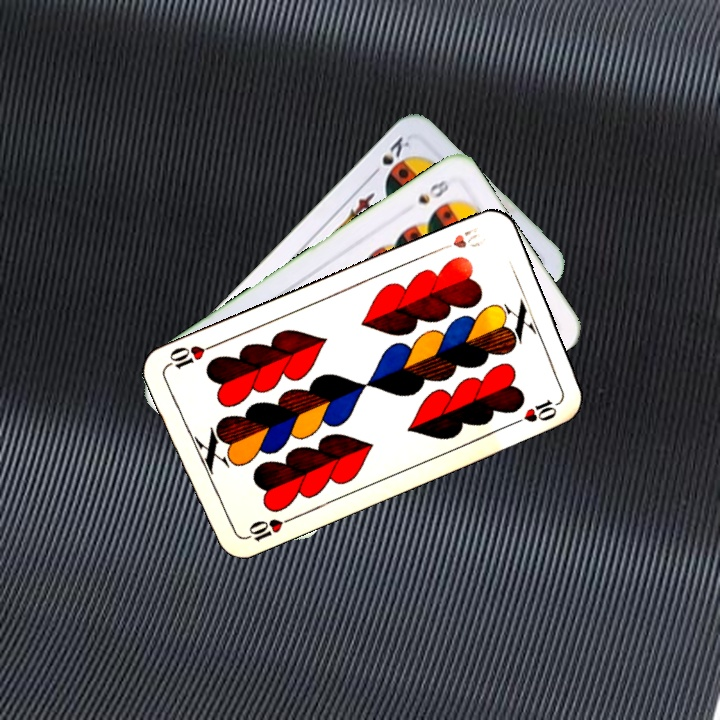H10: (239, 513, 295, 545), (432, 222, 483, 255)
S8: (413, 175, 452, 207)
SK: (366, 132, 412, 180)
